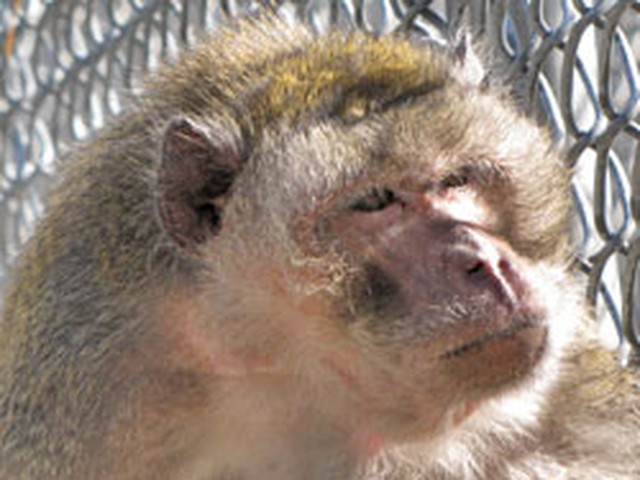Monkey: (4, 13, 640, 478)
